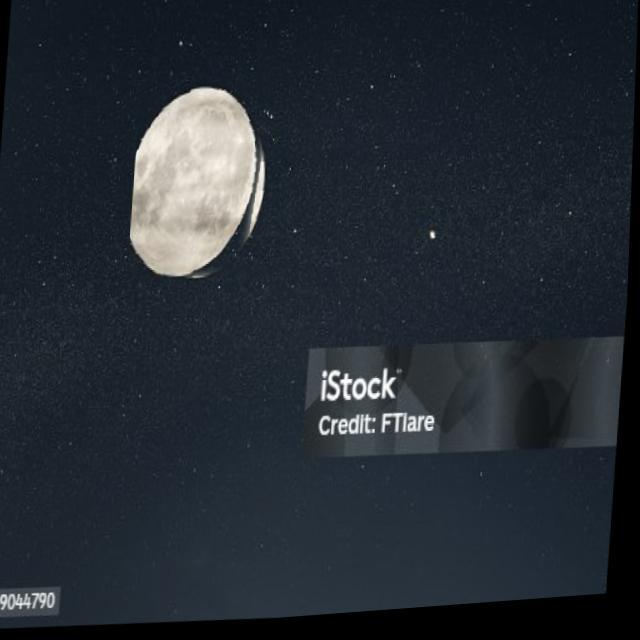moon: (128, 75, 276, 288)
